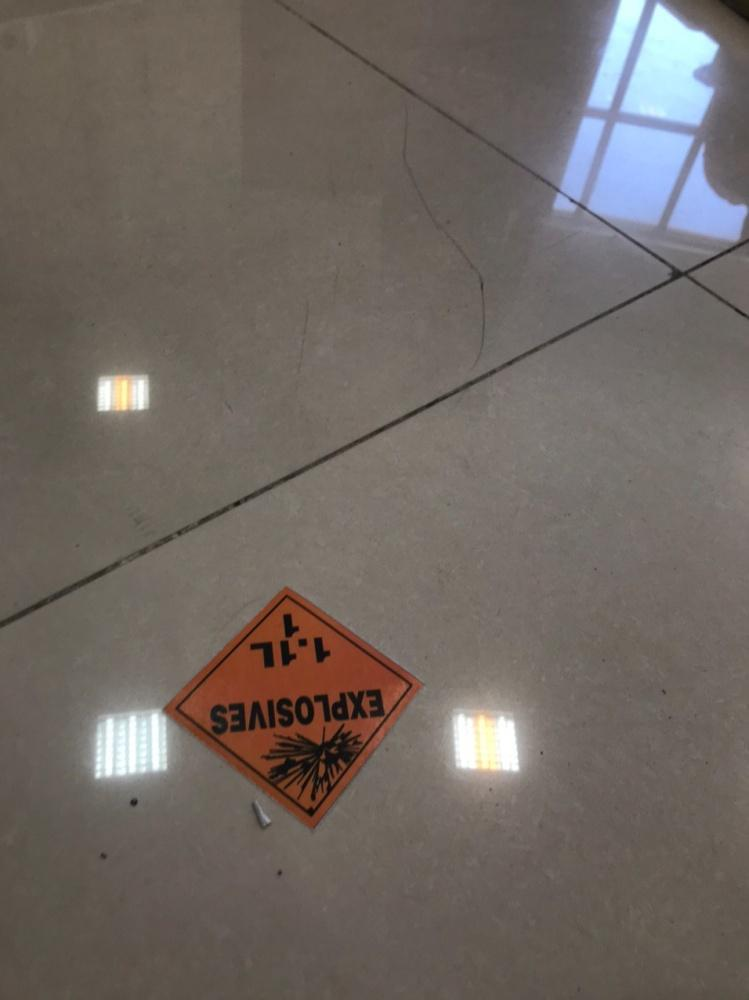explosive: (177, 591, 411, 815)
